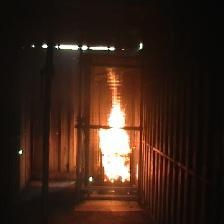fire: (94, 94, 137, 185)
